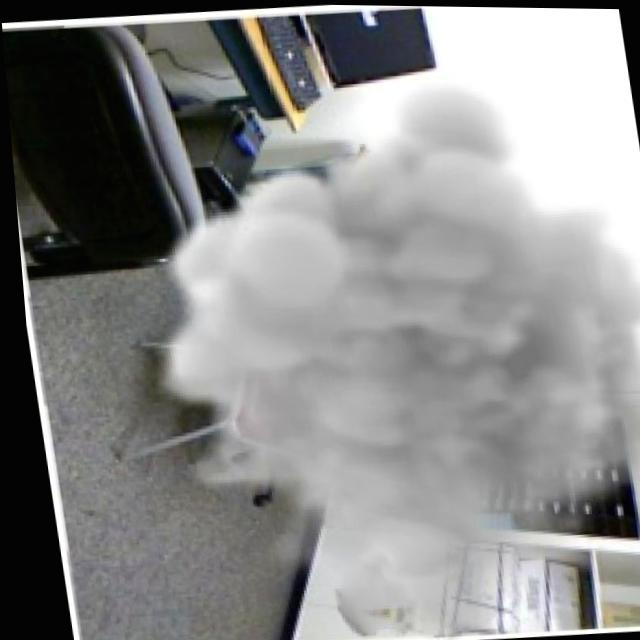no_helmet: (132, 127, 640, 585)
